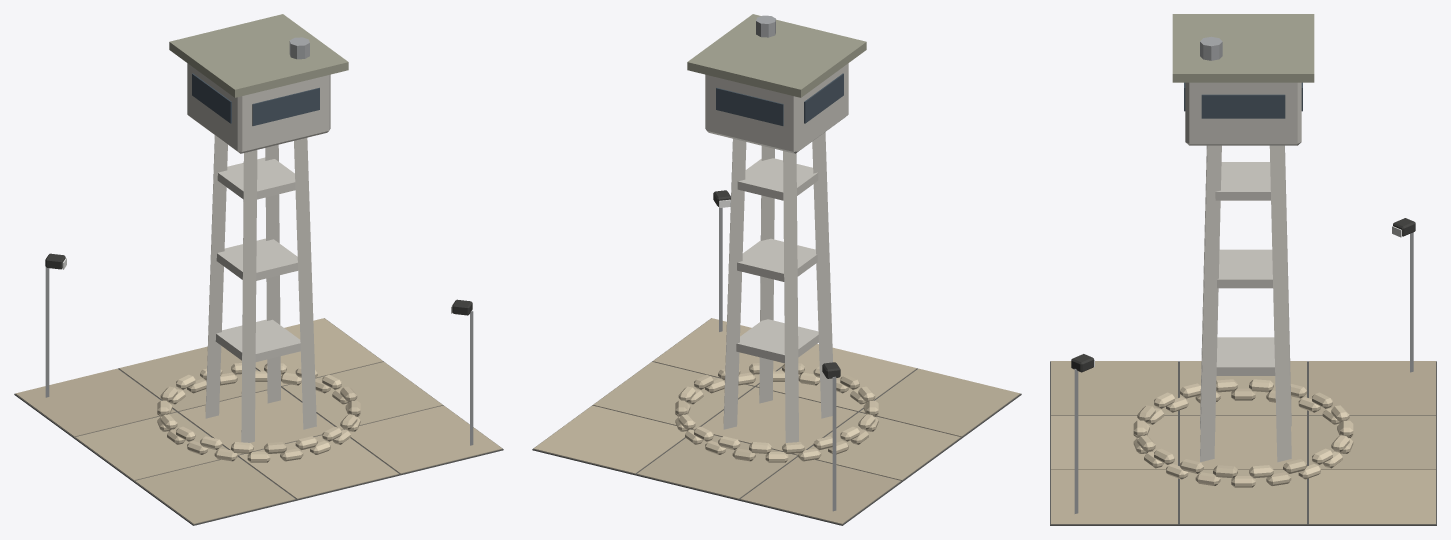
File: b_tower.glb
The picture shows the model from 3 angles, left to right: view 1: azimuth 30°, elevation 25°; view 2: azimuth 150°, elevation 25°; view 3: azimuth 270°, elevation 25°; orthographic projection. The views are drawn at different scales.
Parts seen in each view (by area): view 1: hull; view 2: hull; view 3: hull.
Boxes of the visible parts, bbox=[...] form: hull: bbox=[14, 14, 503, 525]; hull: bbox=[532, 14, 1021, 525]; hull: bbox=[1050, 14, 1436, 525].
Size of the model in its own units: 12 by 14.26 by 12.
